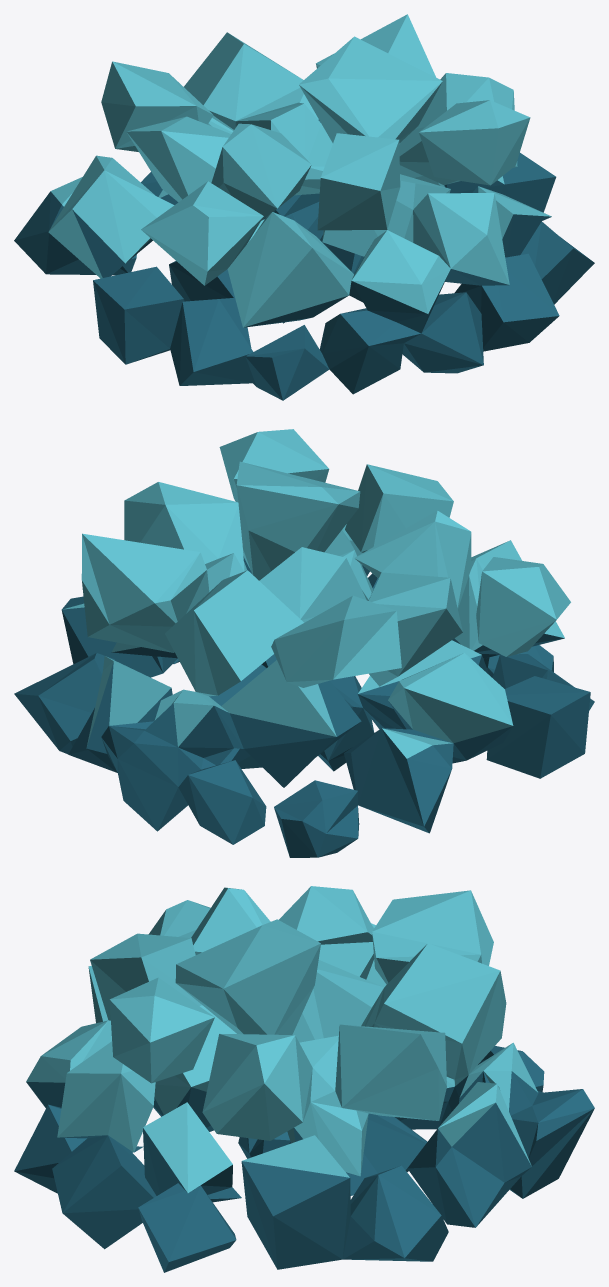
Rendered from crystal-1.glb.
3 views of the same model, one above another, from view 1: azimuth 30°, elevation 25°; view 2: azimuth 150°, elevation 25°; view 3: azimuth 270°, elevation 25° (orthographic). The views are drawn at different scales.
Parts seen in each view (by area): view 1: output_unwrapped; view 2: output_unwrapped; view 3: output_unwrapped.
Boxes of the visible parts, box(x1,y1,x2,y2) form: output_unwrapped: box(14, 14, 594, 400); output_unwrapped: box(14, 429, 594, 857); output_unwrapped: box(14, 886, 594, 1272).
Size of the model in its own units: 1.38 by 0.7118 by 1.4.
